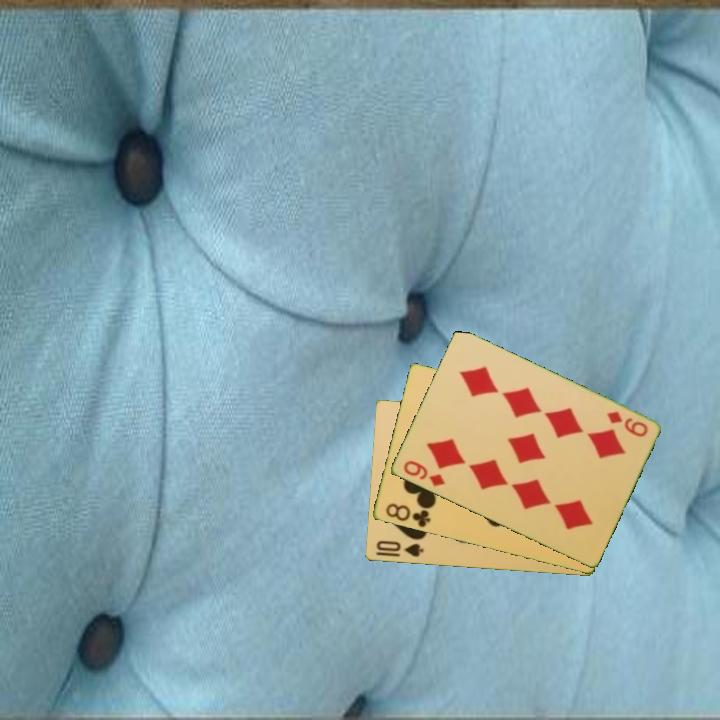10s: (372, 537, 426, 560)
8c: (382, 500, 433, 530)
9d: (399, 457, 448, 490), (603, 408, 650, 440)
